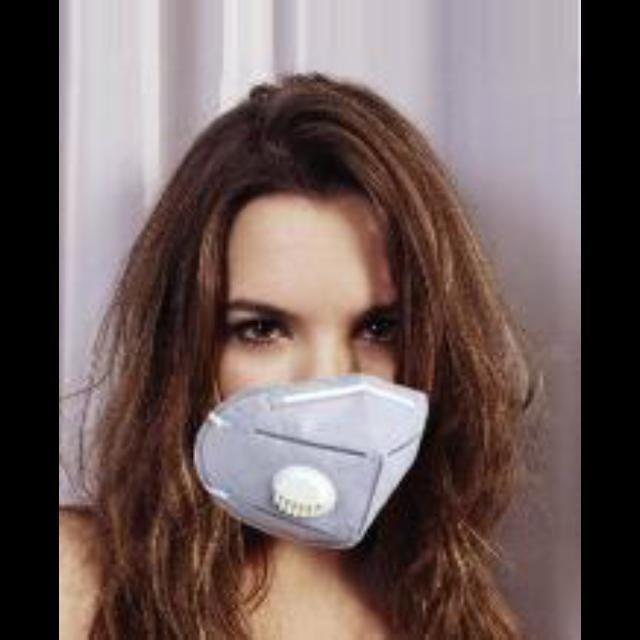suspicion: (193, 130, 457, 548)
